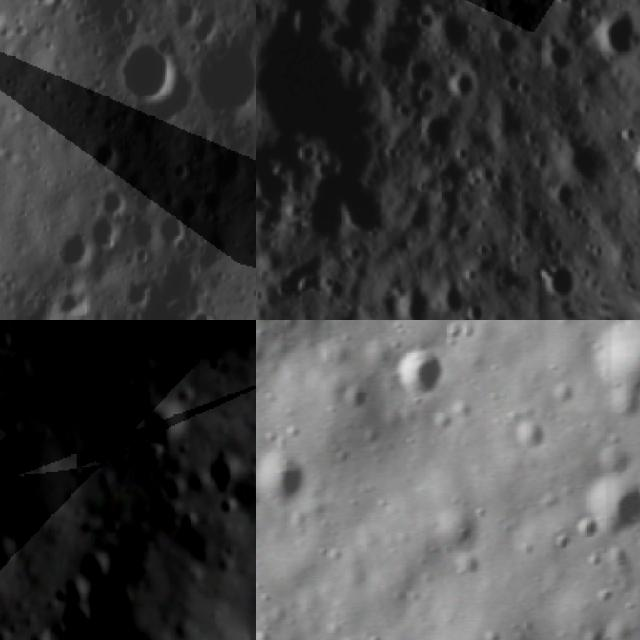crater: (256, 0, 393, 190), (330, 173, 402, 250), (553, 122, 622, 196), (256, 134, 312, 219), (193, 39, 256, 114), (290, 187, 358, 256), (111, 41, 176, 108), (591, 325, 640, 411), (422, 1, 486, 64), (534, 255, 592, 309), (139, 397, 193, 455), (591, 8, 640, 71), (592, 476, 640, 540), (384, 275, 449, 320), (534, 37, 588, 91), (257, 452, 311, 503), (413, 110, 465, 162), (486, 22, 535, 72), (431, 274, 479, 320), (442, 64, 488, 111), (50, 604, 110, 638), (205, 457, 248, 504), (395, 354, 438, 397), (546, 178, 583, 218), (59, 230, 91, 270), (80, 552, 114, 589), (621, 126, 640, 192), (161, 214, 192, 254), (515, 419, 549, 452), (89, 137, 121, 172), (0, 539, 26, 579), (172, 1, 206, 28), (99, 186, 128, 217), (190, 297, 222, 320), (343, 383, 370, 410), (94, 219, 116, 252), (204, 320, 256, 333), (440, 0, 491, 11), (549, 0, 595, 11), (576, 517, 592, 543), (31, 0, 63, 10), (363, 636, 386, 640)
